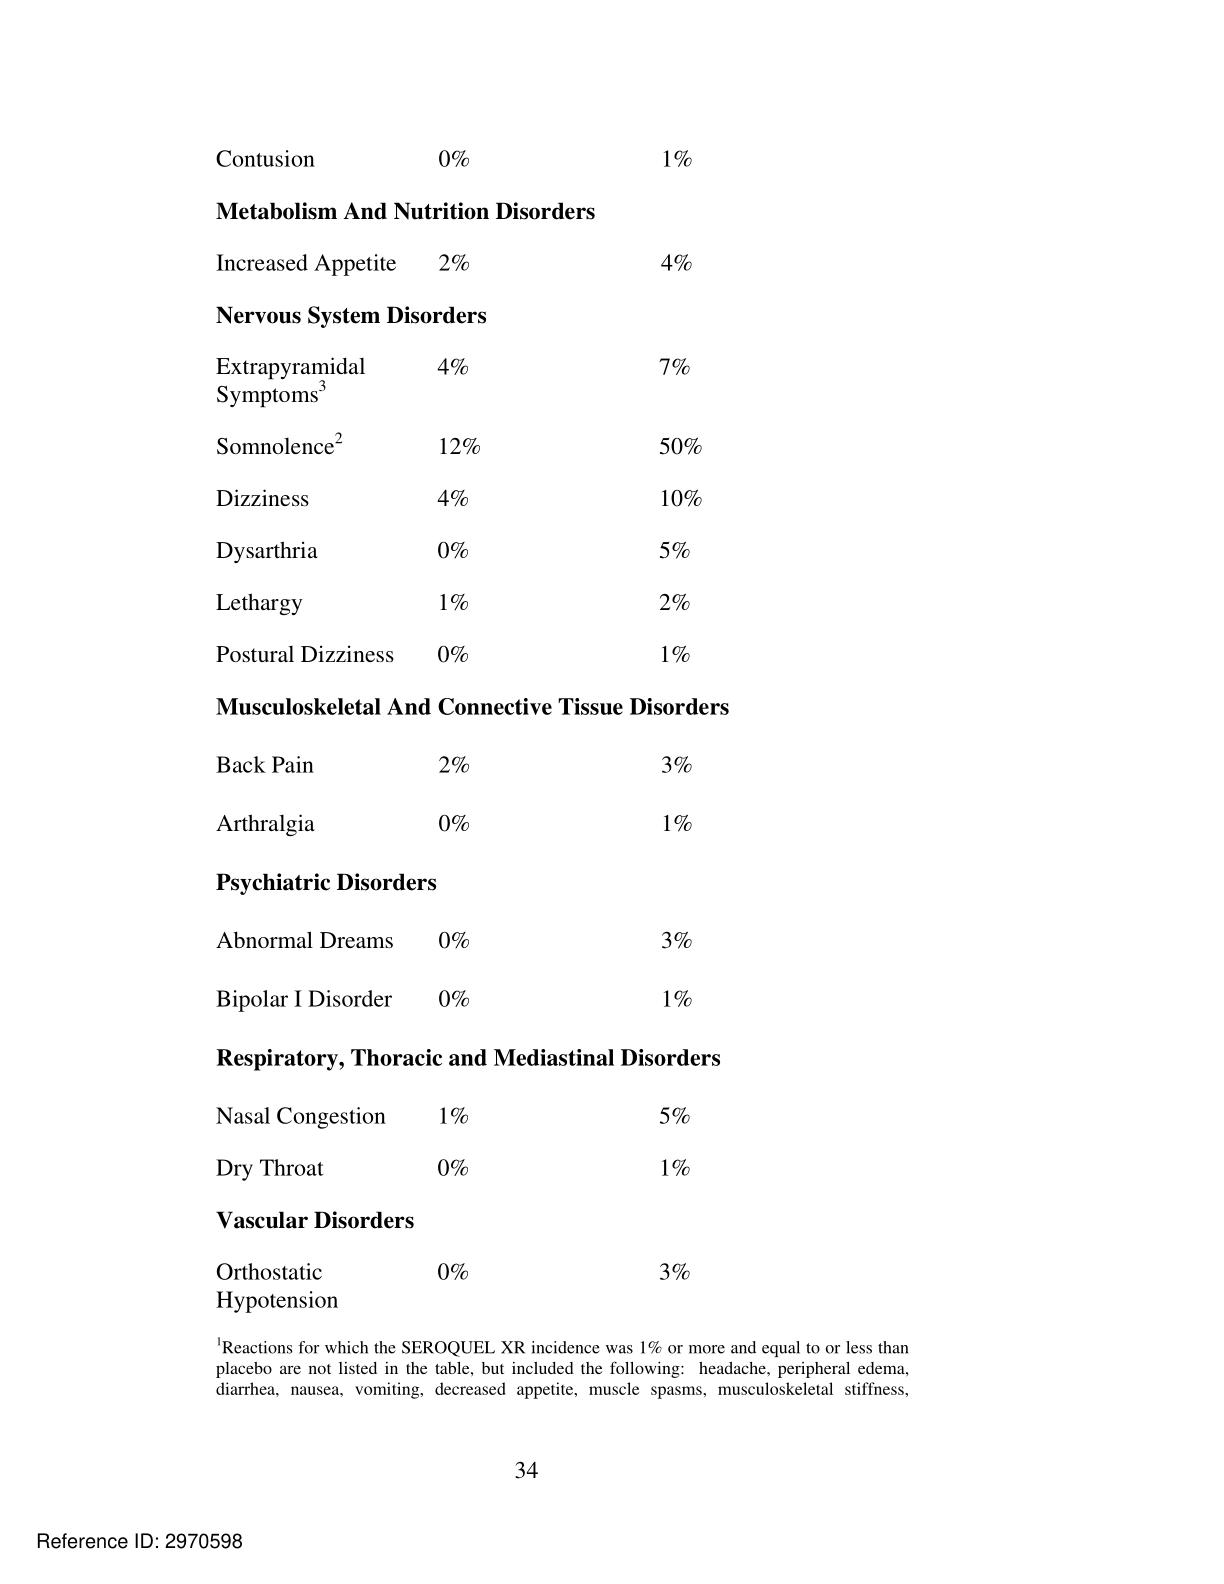nolines: (211, 141, 729, 1318)
